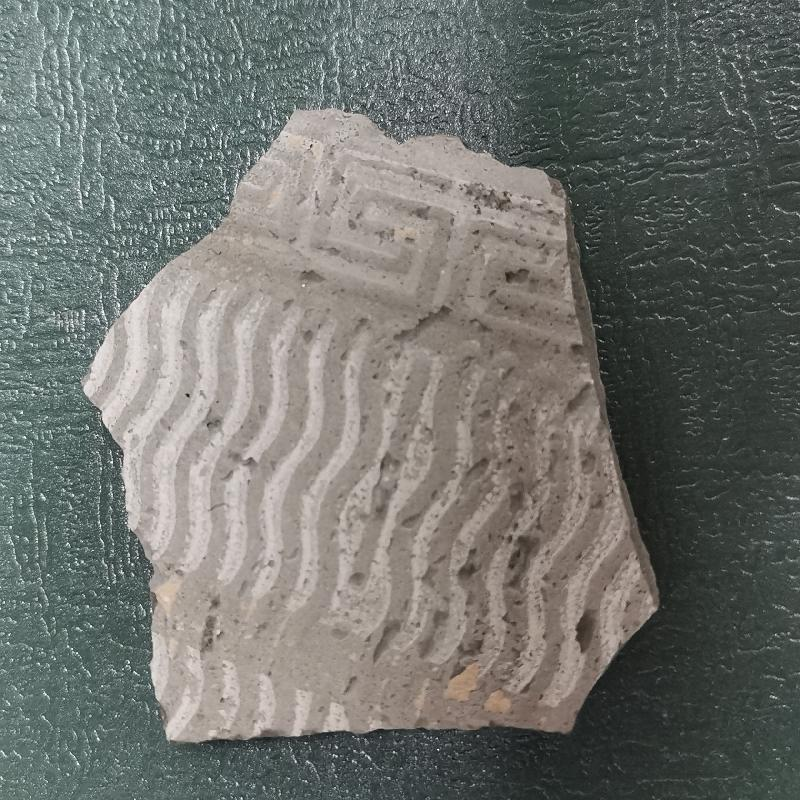tile: (73, 96, 669, 754)
